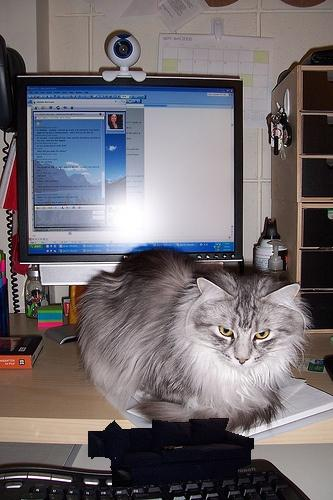tampered: (89, 419, 254, 487)
